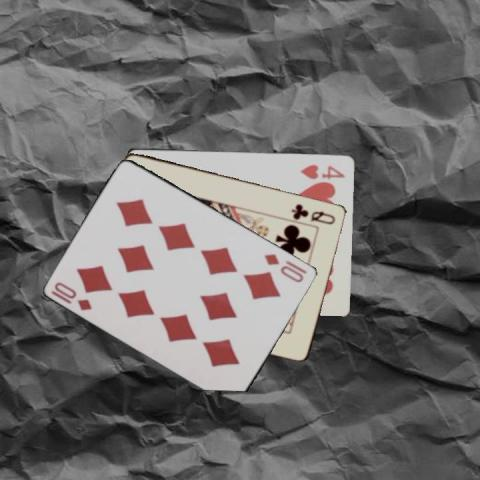10d: (262, 250, 305, 284), (51, 279, 94, 312)
4h: (297, 161, 346, 179)
Qc: (289, 201, 337, 226)
